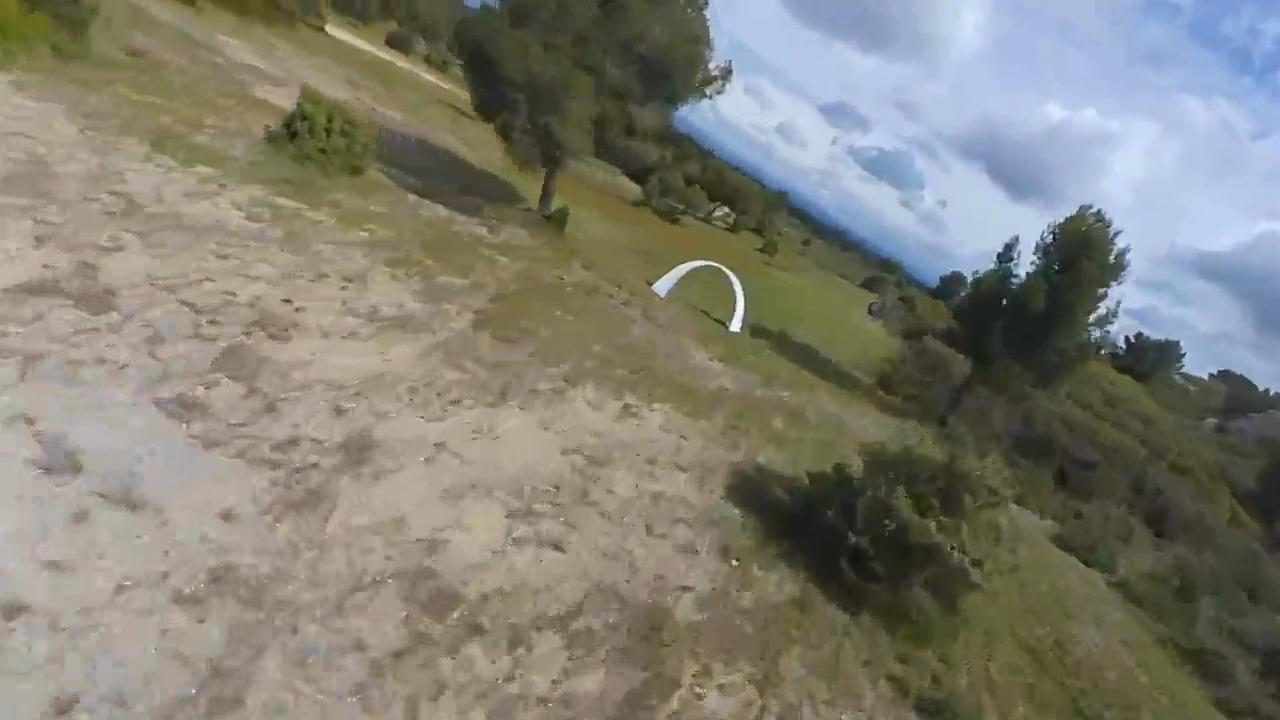gate: (649, 258, 747, 335)
